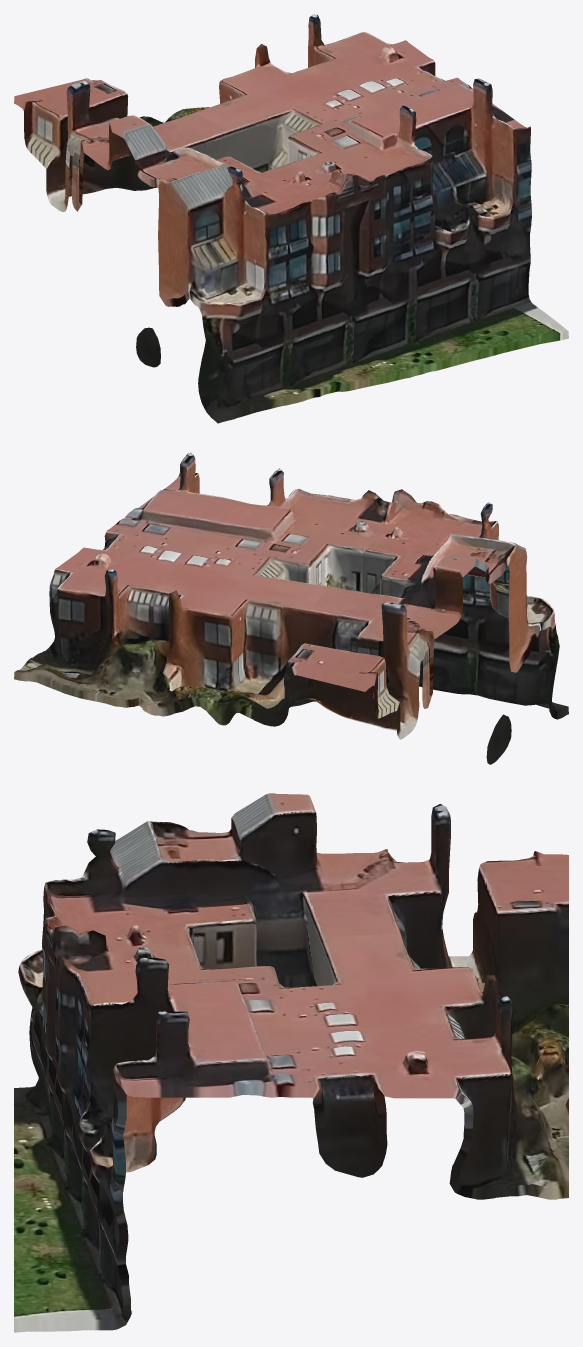
File: z20-167779-405213-h0-yup-uvflip-v3-world.glb
3 renders of one model, top to bottom at view 1: azimuth 30°, elevation 25°; view 2: azimuth 150°, elevation 25°; view 3: azimuth 270°, elevation 25°, orthographic. The views are drawn at different scales.
Size of the model in its own units: 30.24 by 18.48 by 30.32.
Materials: 1 (1 with a texture image).
